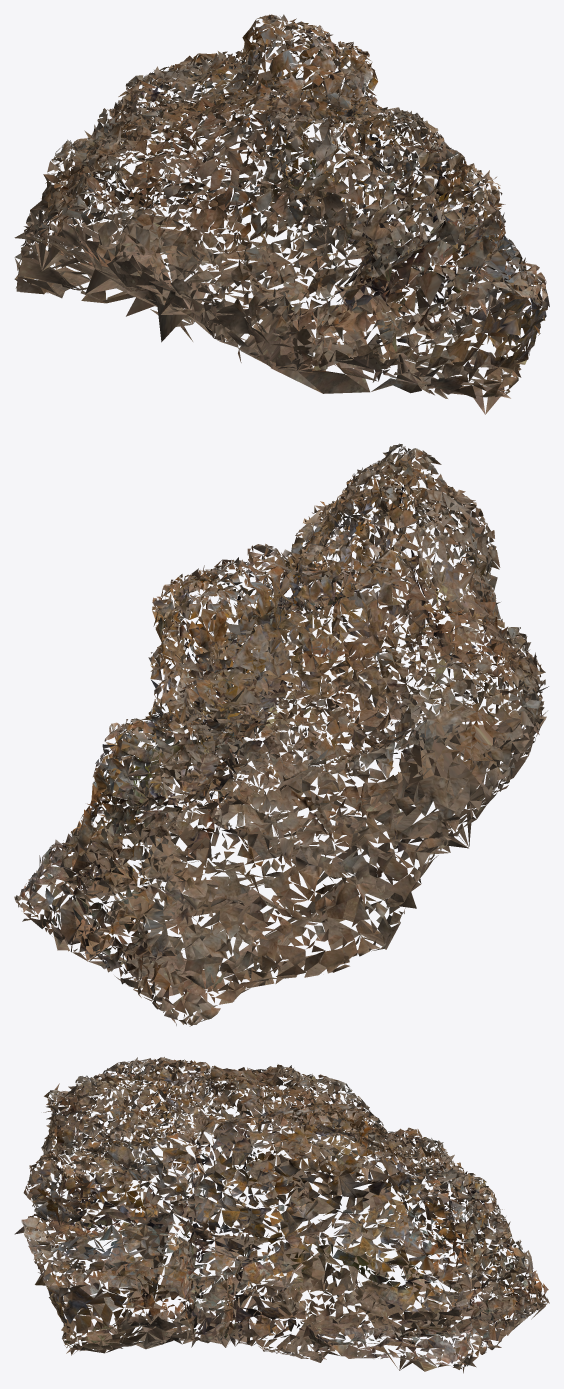
The model's file is boulder_01.glb.
The picture shows the model from 3 angles, top to bottom: view 1: azimuth 30°, elevation 25°; view 2: azimuth 150°, elevation 25°; view 3: azimuth 270°, elevation 25°; orthographic projection. The views are drawn at different scales.
Visible parts, largest first — view 1: boulder_01; view 2: boulder_01; view 3: boulder_01.
Part boxes in pixels (box(x1,y1,x2,y2)): boulder_01: box(14, 14, 549, 414); boulder_01: box(14, 443, 548, 1026); boulder_01: box(14, 1057, 549, 1373).
Bounding box in the file's own units: 1.27 × 1.03 × 1.85.
1 material, 1 textured.
